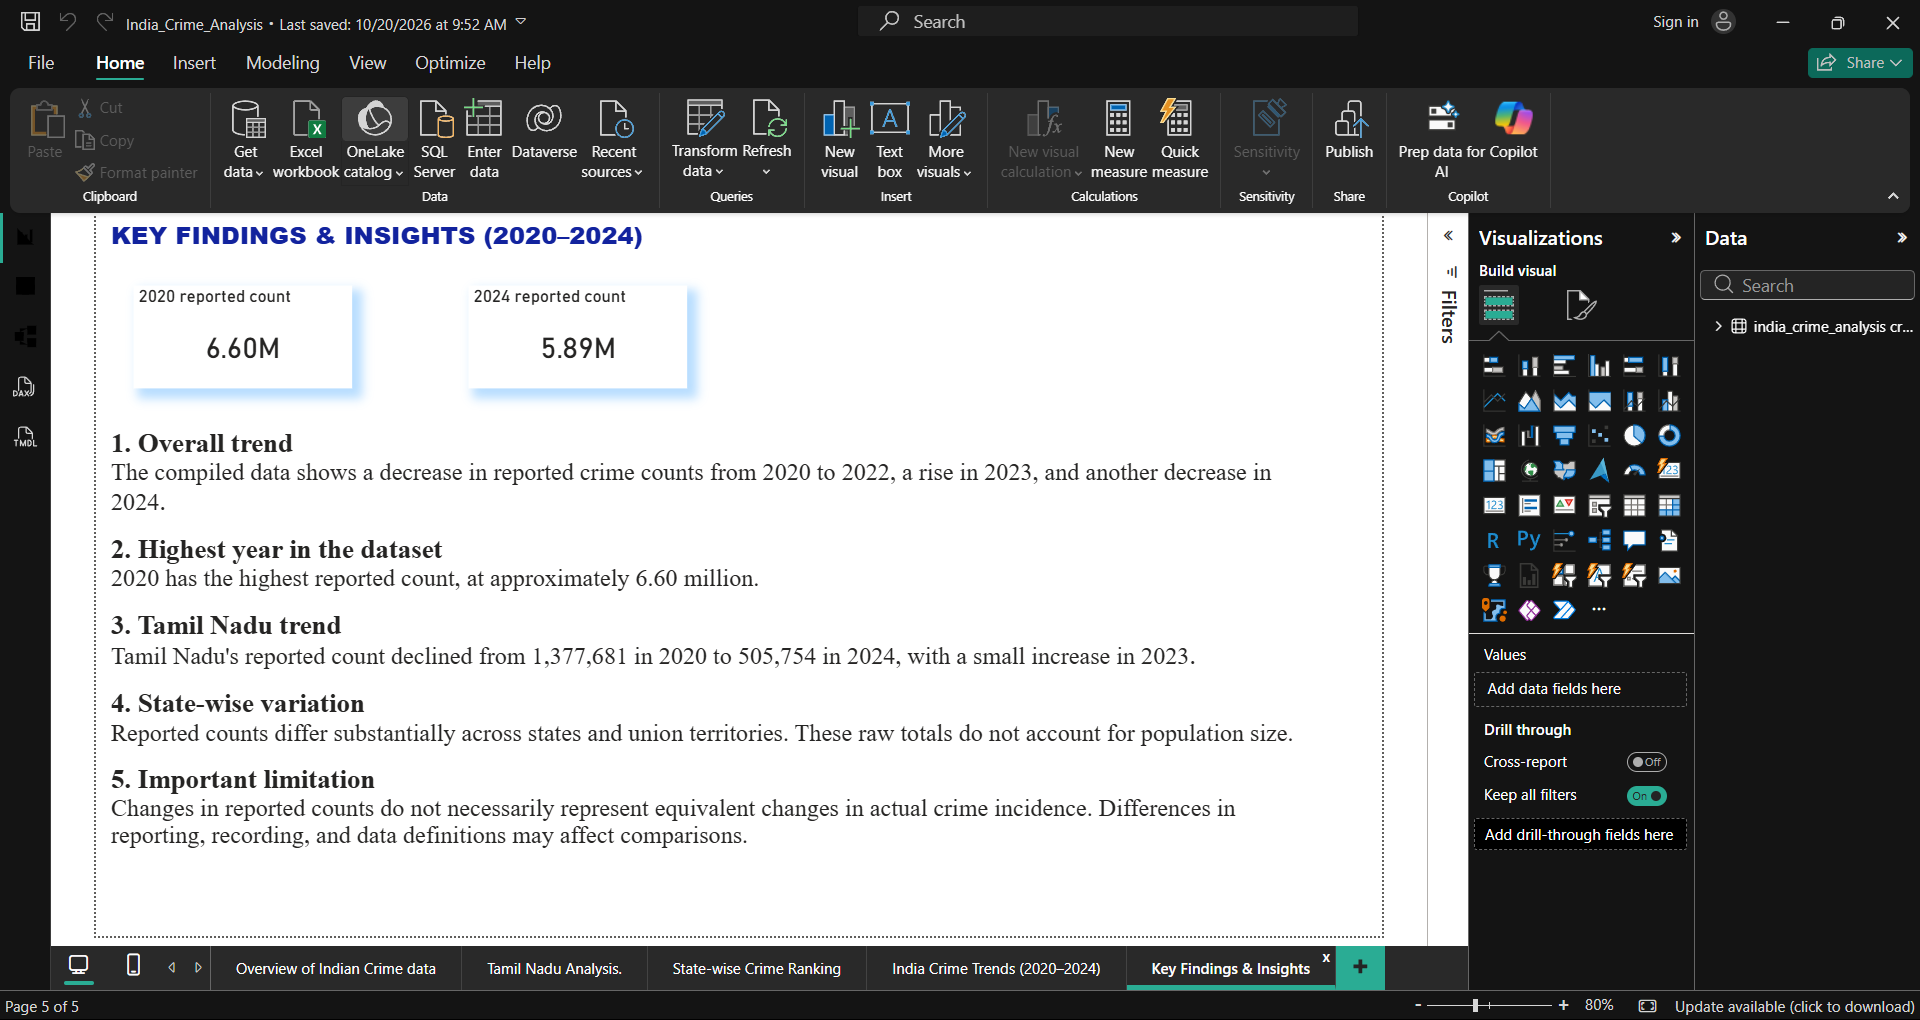

This screenshot's page, from the dashboard's own definition file:
{"tool":"powerbi","page":{"name":"Key Findings & Insights","canvas":[1280,720],"ordinal":4},"visuals":[{"type":"textbox","box":[10,0,673.8,50],"z":0},{"type":"kpi","title":"2024 reported count","fields":{"TrendLine":["india_crime_analysis crime_data.Year"],"Indicator":["Sum(india_crime_analysis crime_data.Reported_Crime_Count)"]},"box":[371.2,72.5,217.5,102.5],"z":2},{"type":"textbox","box":[10,208.8,1220,486.2],"z":3},{"type":"kpi","title":"2020 reported count","fields":{"TrendLine":["india_crime_analysis crime_data.Year"],"Indicator":["Sum(india_crime_analysis crime_data.Reported_Crime_Count)"]},"box":[37.5,72.5,217.5,102.5],"z":4}]}

Visuals, with their boxes on the page's 1280x720 design canvas (x1, y1, x2, y2). These are canvas units, not pixel positions in the 1920x1020 screenshot, which may show the page scaled, cropped or inside an application window:
textbox: [x1=10, y1=0, x2=684, y2=50]
"2024 reported count" kpi: [x1=371, y1=72, x2=589, y2=175]
textbox: [x1=10, y1=209, x2=1230, y2=695]
"2020 reported count" kpi: [x1=38, y1=72, x2=255, y2=175]
